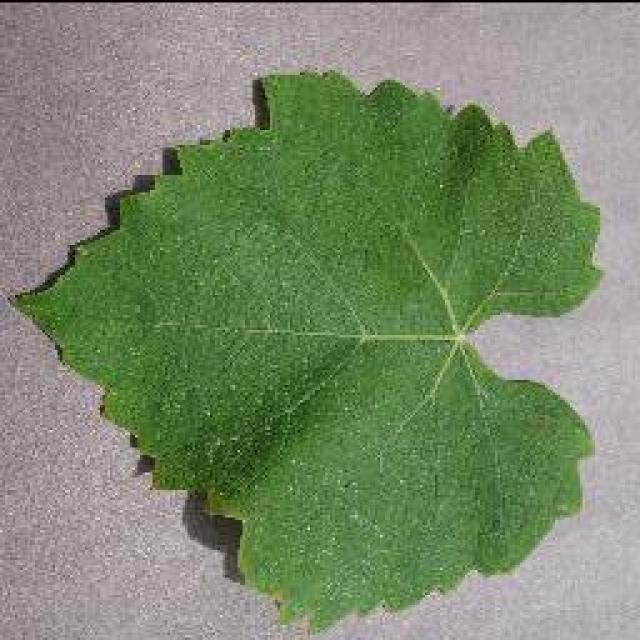Grape___healthy: (18, 72, 598, 628)
